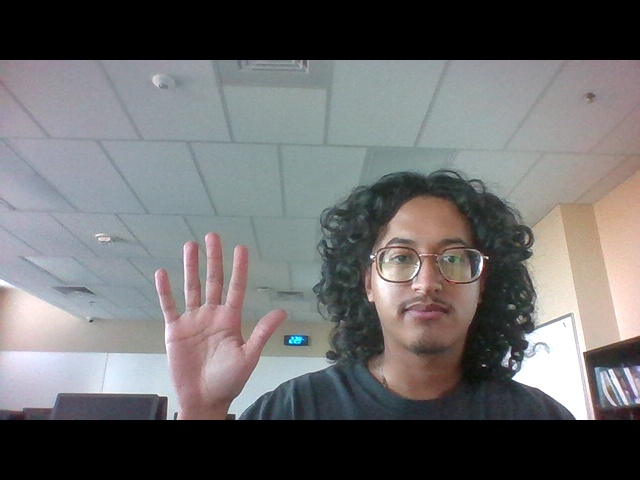hello: (141, 227, 293, 410)
